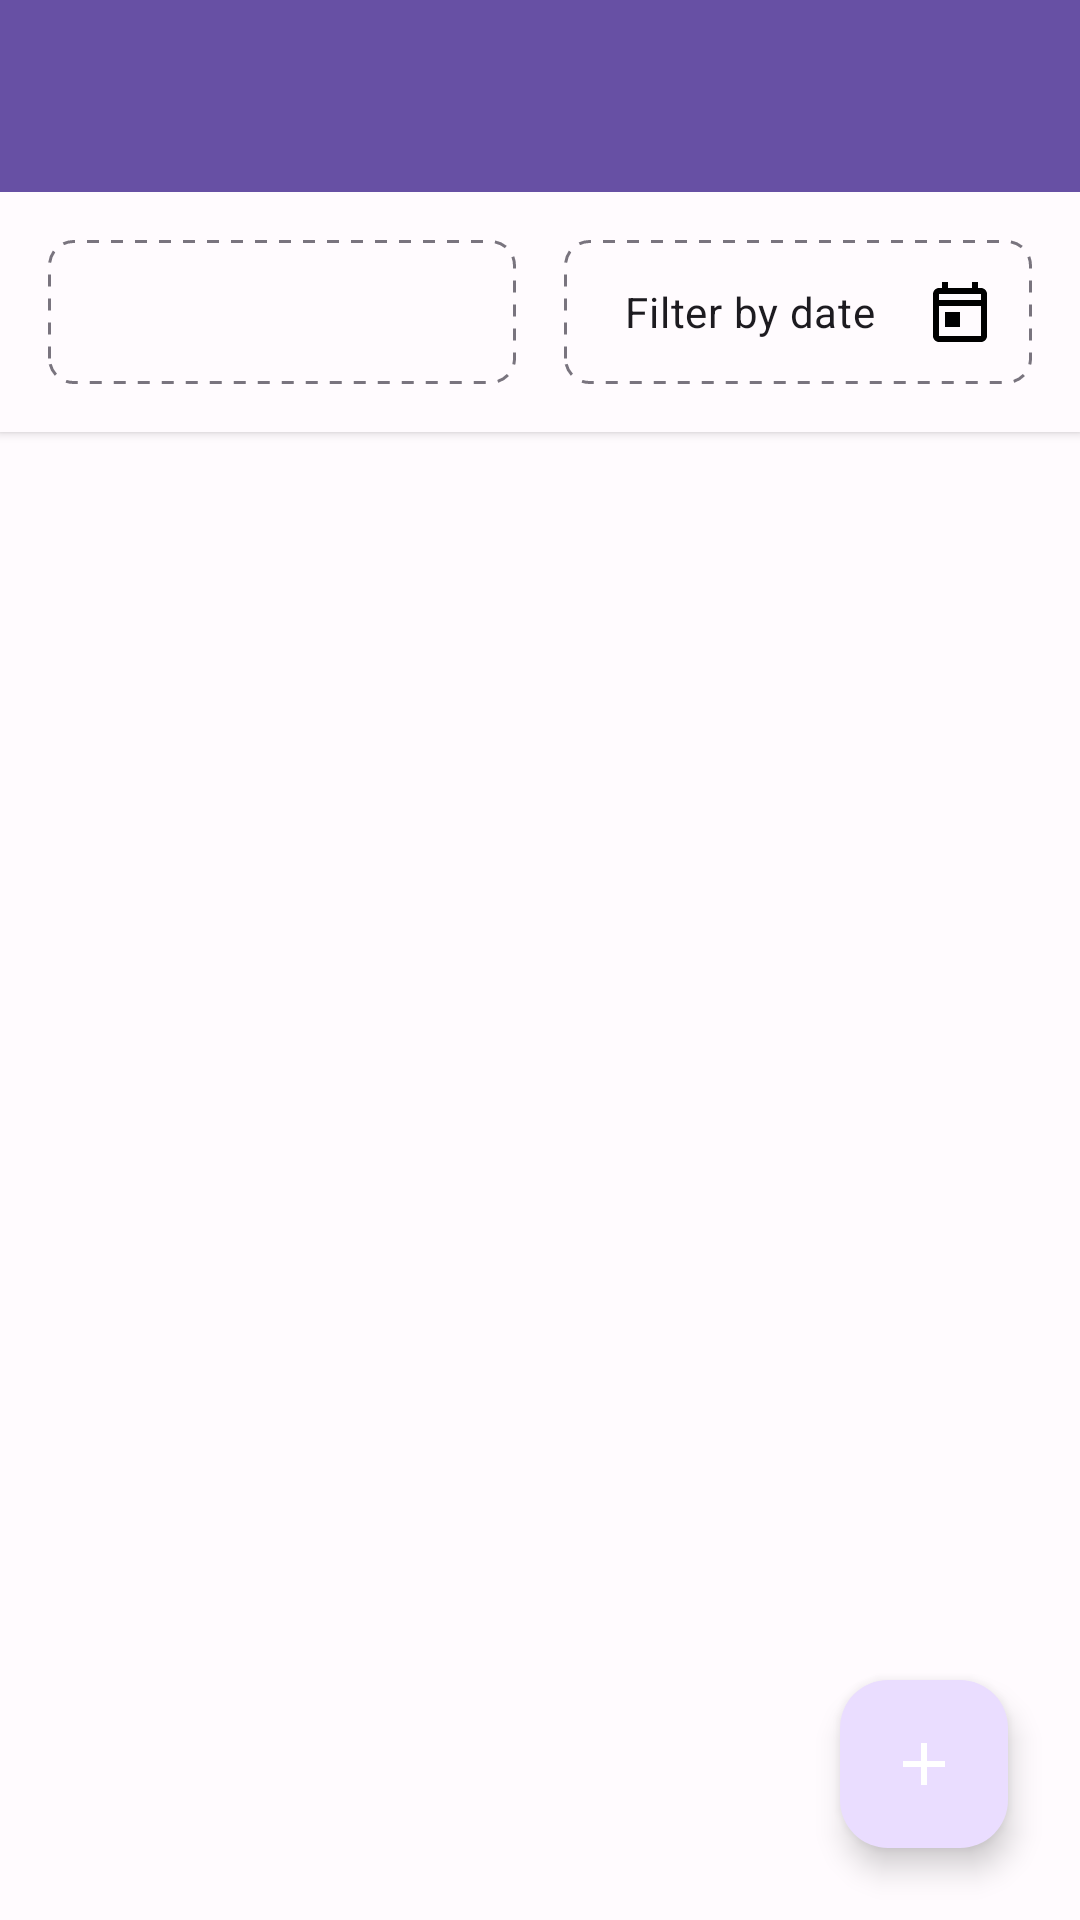

Named icons in this screenshot (1080 x 1920) and their centers, point (x, y):
Add Expense: point (924, 1764)
